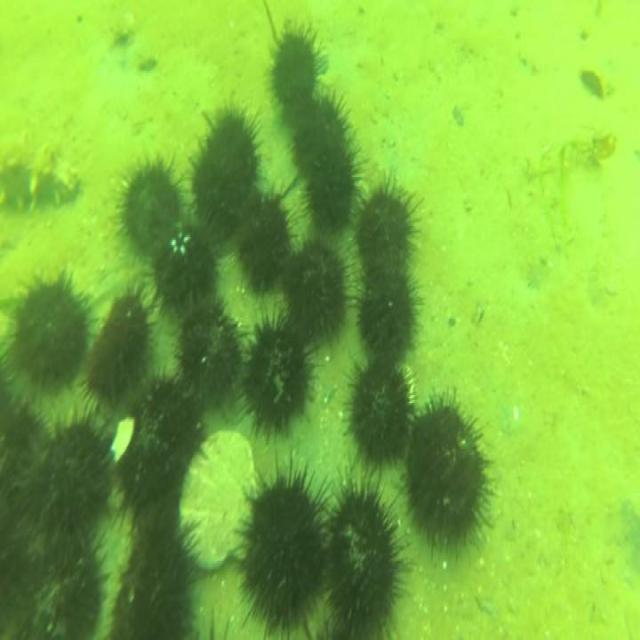echinus: (241, 468, 323, 634), (404, 398, 490, 552), (119, 365, 203, 517), (21, 414, 116, 545), (324, 480, 402, 629), (8, 529, 104, 640), (10, 272, 91, 395), (114, 518, 194, 640), (79, 284, 153, 410), (242, 319, 310, 438), (347, 357, 415, 473), (285, 237, 351, 354), (120, 154, 187, 266), (355, 262, 421, 367), (177, 302, 244, 404), (152, 218, 218, 319), (354, 180, 417, 280), (301, 142, 360, 244), (238, 193, 294, 300), (206, 104, 263, 198), (190, 147, 243, 246), (292, 88, 350, 177), (268, 25, 324, 117)
holothurian: (0, 126, 84, 212)
scallop: (178, 428, 258, 577)
